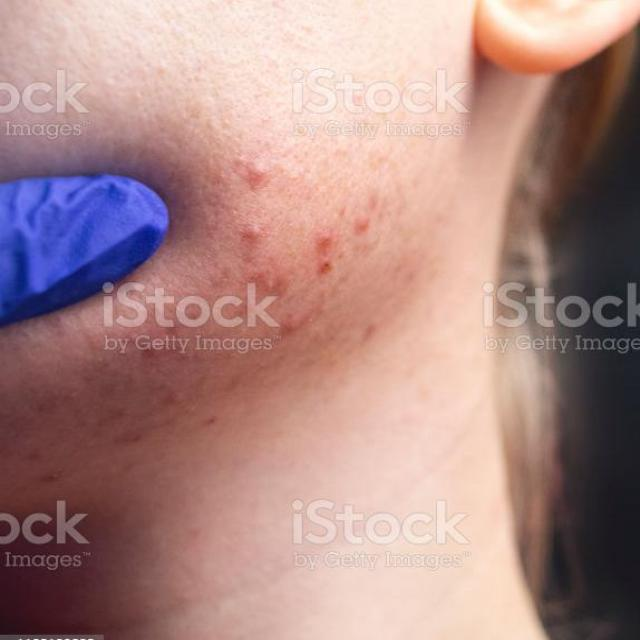blackheads: (243, 218, 275, 246), (236, 154, 268, 180), (348, 211, 373, 240), (256, 270, 286, 288), (38, 467, 63, 483), (316, 228, 336, 246), (201, 413, 214, 427)
